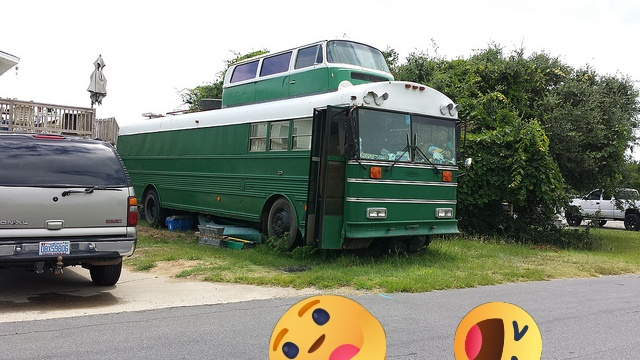care: (269, 295, 386, 360)
haha: (454, 302, 542, 360)
